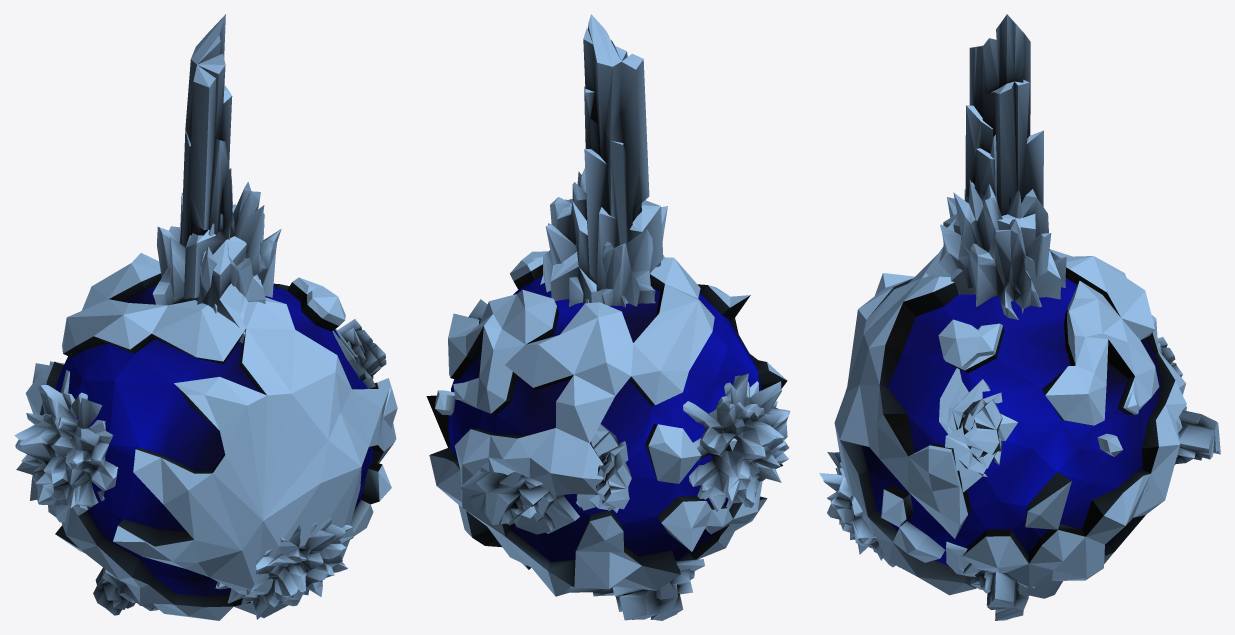
File: plaenteglace.fbx
The picture shows the model from 3 angles, left to right: view 1: azimuth 30°, elevation 25°; view 2: azimuth 150°, elevation 25°; view 3: azimuth 270°, elevation 25°; orthographic projection. The views are drawn at different scales.
Visible parts, largest first — view 1: Sphere; view 2: Sphere; view 3: Sphere.
Boxes of the visible parts, box(x1,y1,x2,y2) form: Sphere: box(14, 14, 397, 620); Sphere: box(426, 14, 790, 620); Sphere: box(819, 14, 1220, 620).
Bounding box in the file's own units: 112 × 181 × 113.
